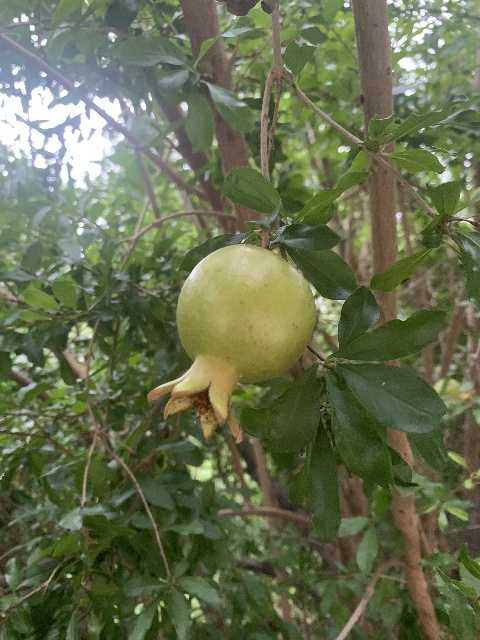mid-growth: (146, 242, 316, 445)
